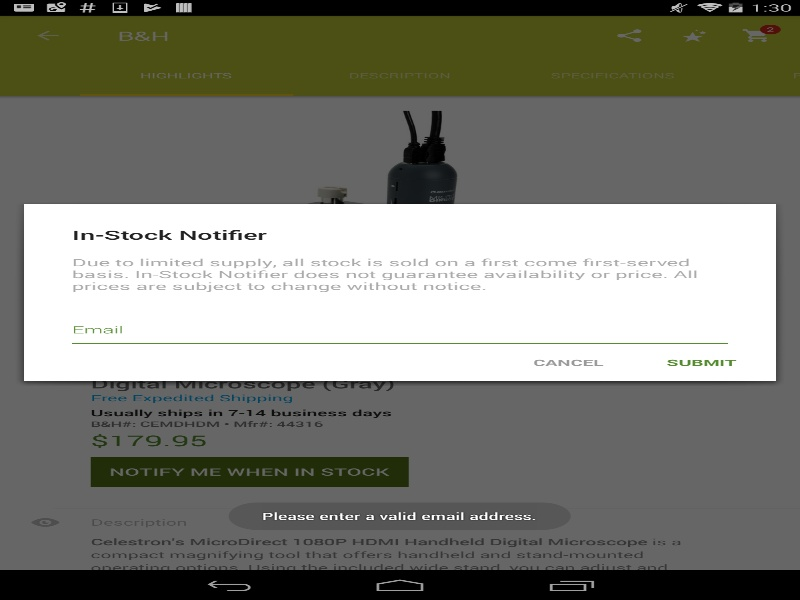Button: (642, 351, 760, 373), (509, 351, 626, 373)
Input: (72, 315, 728, 343)
